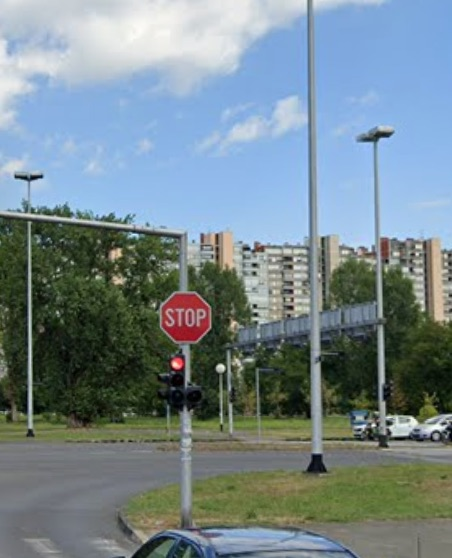Obavezno zaustavljanje: (160, 291, 212, 344)
